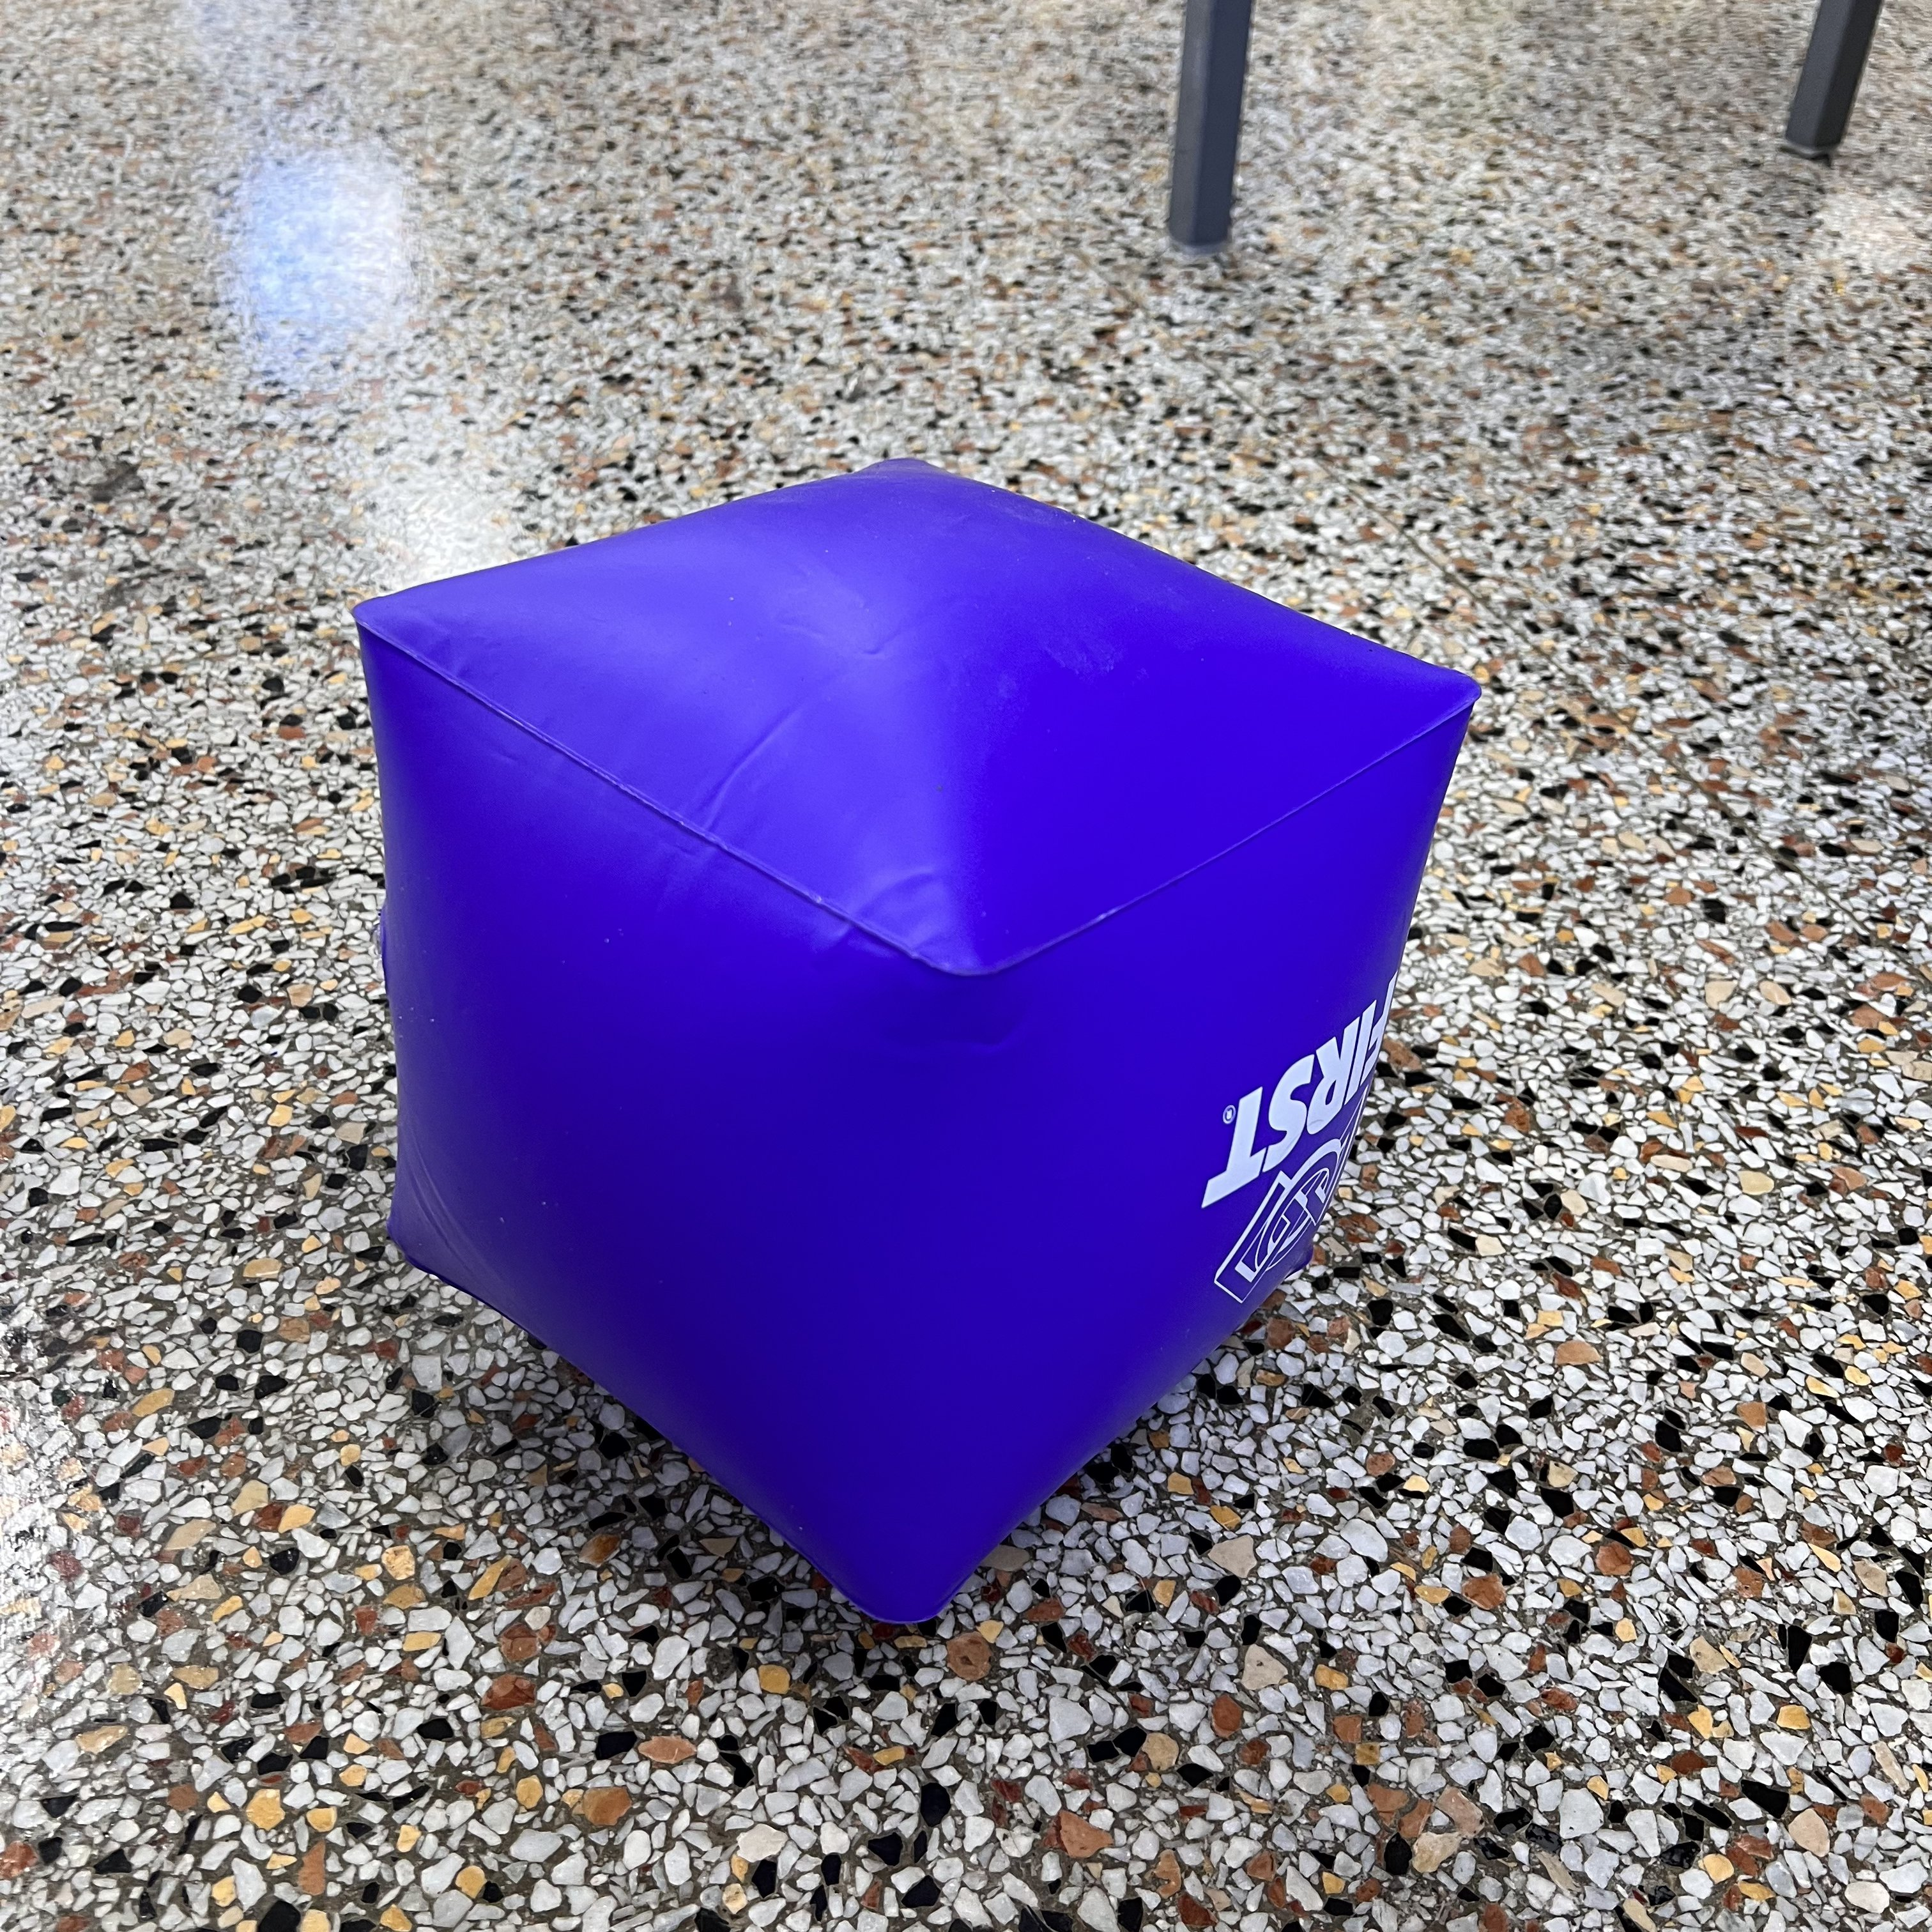cube: (350, 458, 1483, 1626)
